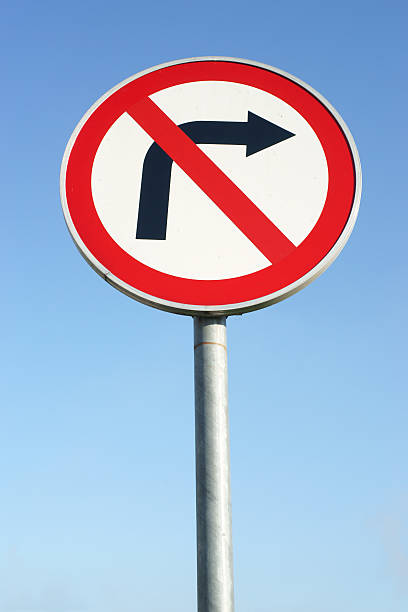saga_donulmez: (62, 59, 362, 306)
